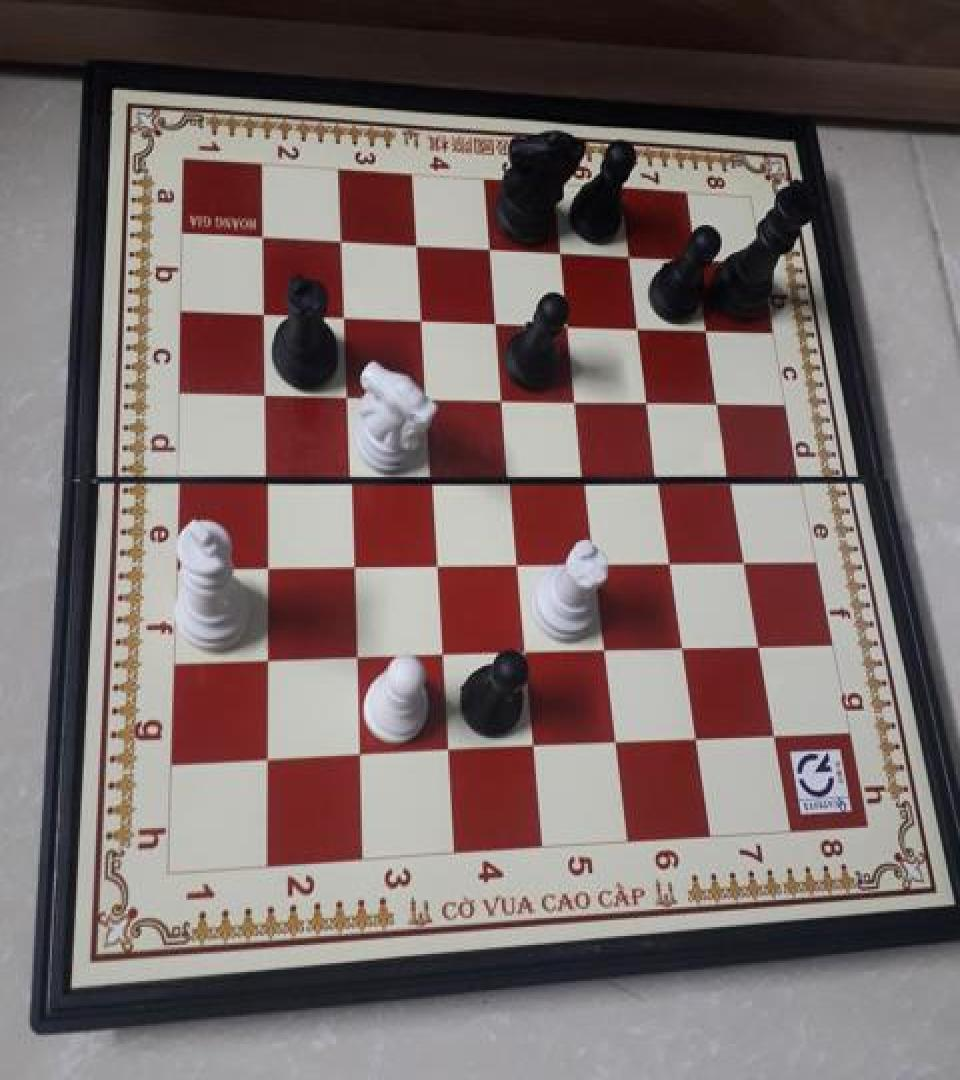xcorner: (246, 220, 276, 255), (681, 240, 711, 274), (613, 237, 643, 271), (544, 234, 574, 268), (472, 232, 502, 266), (399, 228, 429, 262), (324, 224, 354, 258), (623, 308, 653, 342), (552, 306, 582, 340), (479, 304, 509, 338), (404, 300, 434, 334), (326, 298, 356, 332), (247, 296, 277, 330), (704, 382, 734, 416), (633, 381, 663, 415), (560, 380, 590, 414), (486, 379, 516, 413), (408, 378, 438, 412), (329, 377, 359, 411), (247, 374, 277, 408), (716, 460, 746, 494), (644, 459, 674, 493), (569, 459, 599, 493), (493, 459, 523, 493), (414, 459, 444, 493), (332, 459, 362, 493), (248, 459, 278, 493), (729, 540, 759, 574), (655, 541, 685, 575), (579, 542, 609, 576), (500, 543, 530, 577), (419, 544, 449, 578), (335, 546, 365, 580), (249, 546, 279, 580), (743, 626, 773, 660), (589, 630, 619, 664), (508, 633, 538, 667), (338, 638, 368, 672), (249, 641, 279, 675), (680, 720, 710, 754), (599, 723, 629, 757), (516, 728, 546, 762), (431, 731, 461, 765), (342, 736, 372, 770), (250, 740, 280, 774), (692, 311, 722, 344), (667, 628, 697, 661), (425, 636, 455, 669), (758, 716, 788, 749)
